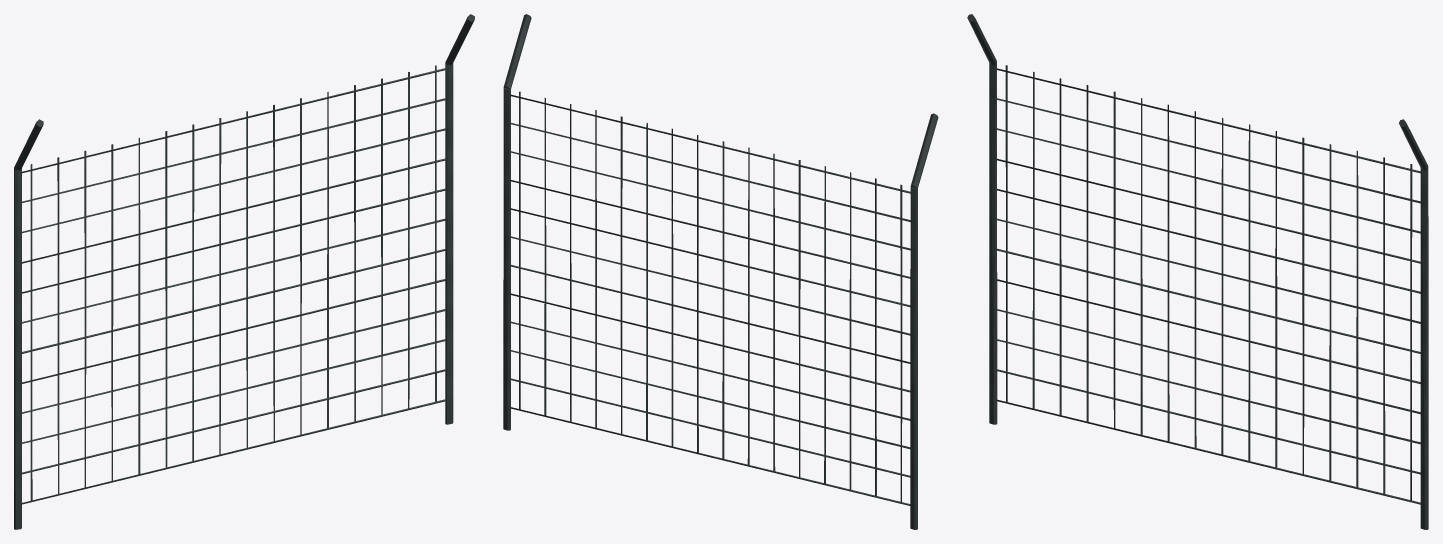
File: catch-fence-lod.glb
3 renders of one model, left to right at view 1: azimuth 30°, elevation 25°; view 2: azimuth 150°, elevation 25°; view 3: azimuth 330°, elevation 25°, orthographic. The views are drawn at different scales.
Visible parts, largest first — view 1: catch-fence-debris-fence-panel_0; view 2: catch-fence-debris-fence-panel_0; view 3: catch-fence-debris-fence-panel_0.
Boxes of the visible parts, x1,y1,x2,y2 form: catch-fence-debris-fence-panel_0: [14, 14, 474, 529]; catch-fence-debris-fence-panel_0: [503, 14, 938, 529]; catch-fence-debris-fence-panel_0: [967, 14, 1428, 529].
Bounding box in the file's own units: 4 × 3.7 × 0.38.
Materials: 1 (1 with a texture image).
